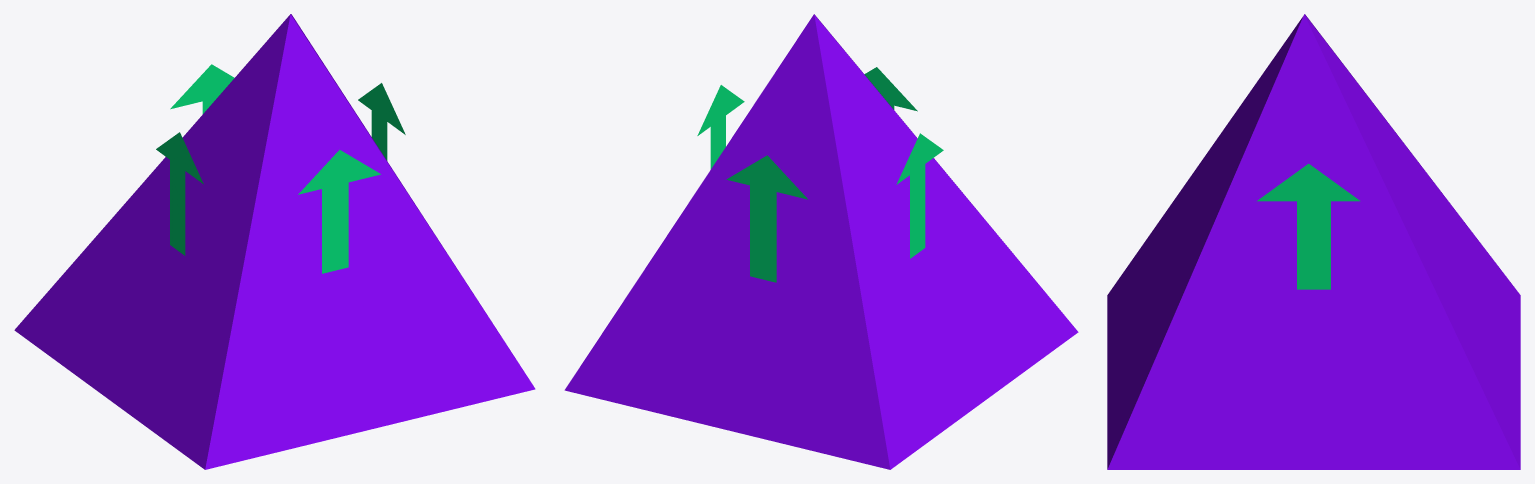
The model's file is soopsJump.glb.
The picture shows the model from 3 angles, left to right: view 1: azimuth 30°, elevation 25°; view 2: azimuth 150°, elevation 25°; view 3: azimuth 270°, elevation 25°; orthographic projection. The views are drawn at different scales.
Parts seen in each view (by area): view 1: Cube, Plane; view 2: Cube, Plane; view 3: Cube, Plane.
Boxes of the visible parts, x1,y1,x2,y2 form: Cube: [14, 14, 535, 469]; Plane: [156, 64, 405, 273]; Cube: [564, 14, 1078, 469]; Plane: [697, 67, 943, 282]; Cube: [1107, 14, 1520, 469]; Plane: [1257, 163, 1360, 289].
Size of the model in its own units: 2 by 2 by 2.
